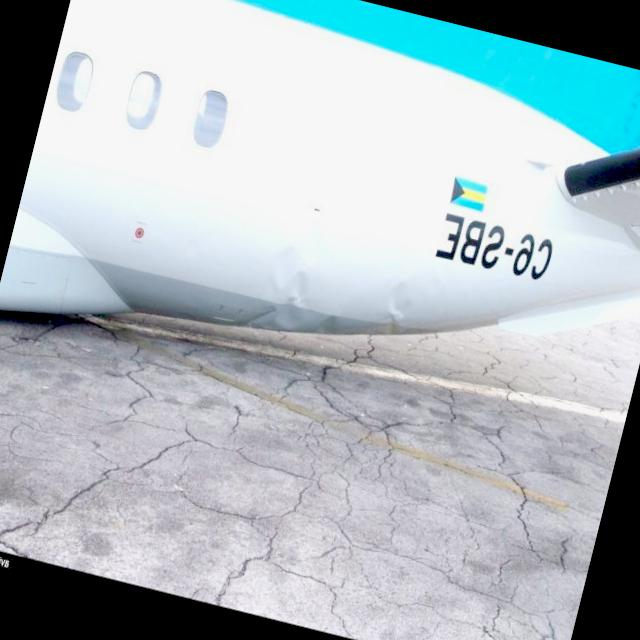dent: (238, 228, 328, 344), (368, 269, 425, 350)
